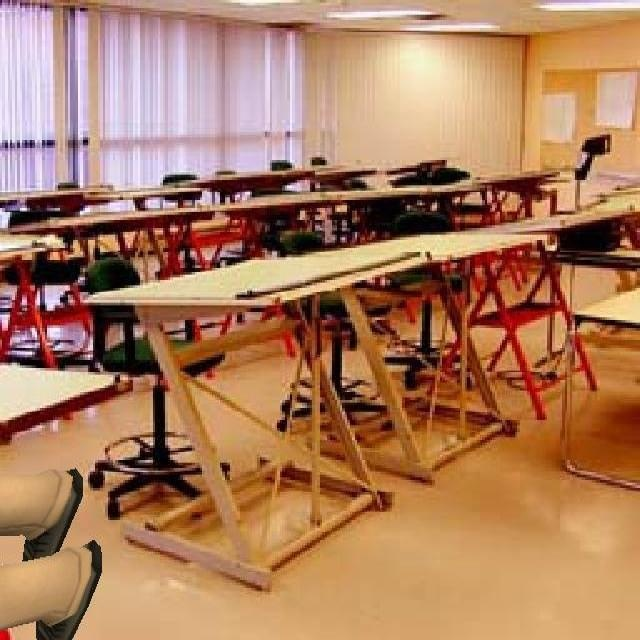obstacle: (0, 458, 105, 640)
